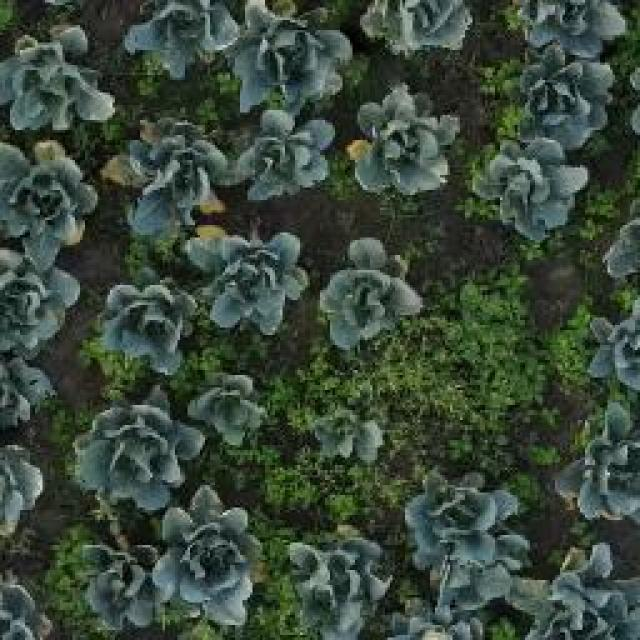cabbage: (143, 486, 269, 638), (101, 112, 230, 245), (401, 469, 532, 596), (66, 397, 199, 515), (0, 18, 123, 138), (227, 0, 353, 113), (470, 137, 593, 248), (351, 83, 462, 205), (85, 265, 197, 383), (282, 522, 391, 640), (0, 128, 95, 262), (199, 232, 304, 339), (555, 398, 640, 530), (232, 108, 344, 206), (321, 237, 423, 344), (502, 58, 619, 146), (536, 542, 640, 639), (122, 0, 243, 80), (73, 534, 158, 636), (0, 245, 80, 353), (505, 0, 640, 62), (355, 0, 478, 63), (188, 364, 275, 448), (310, 405, 390, 473), (585, 295, 640, 390)
